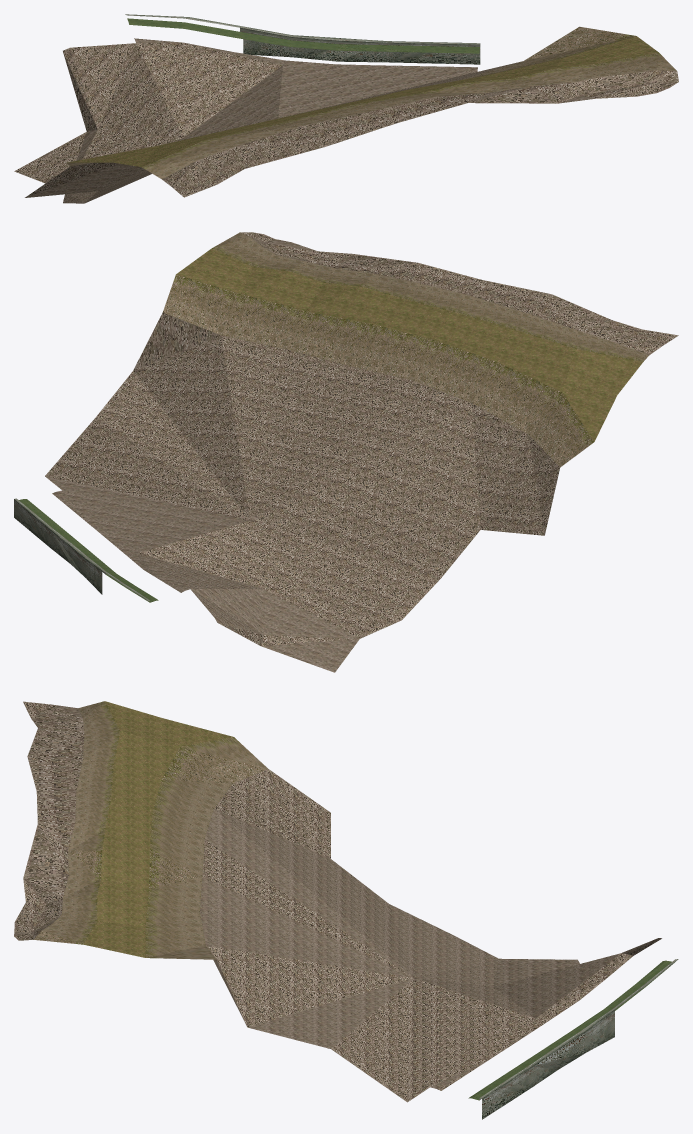
File: lodcunts07.obj
3 renders of one model, top to bottom at view 1: azimuth 30°, elevation 25°; view 2: azimuth 150°, elevation 25°; view 3: azimuth 270°, elevation 25°, orthographic. The views are drawn at different scales.
Visible parts, largest first — view 1: LODcunts07; view 2: LODcunts07; view 3: LODcunts07.
Part boxes in pixels (<box>): LODcunts07: <box>14,14,678,203</box>; LODcunts07: <box>14,232,678,672</box>; LODcunts07: <box>14,701,678,1119</box>.
Size of the model in its own units: 232 by 92.36 by 251.
5 materials, 5 textured.
